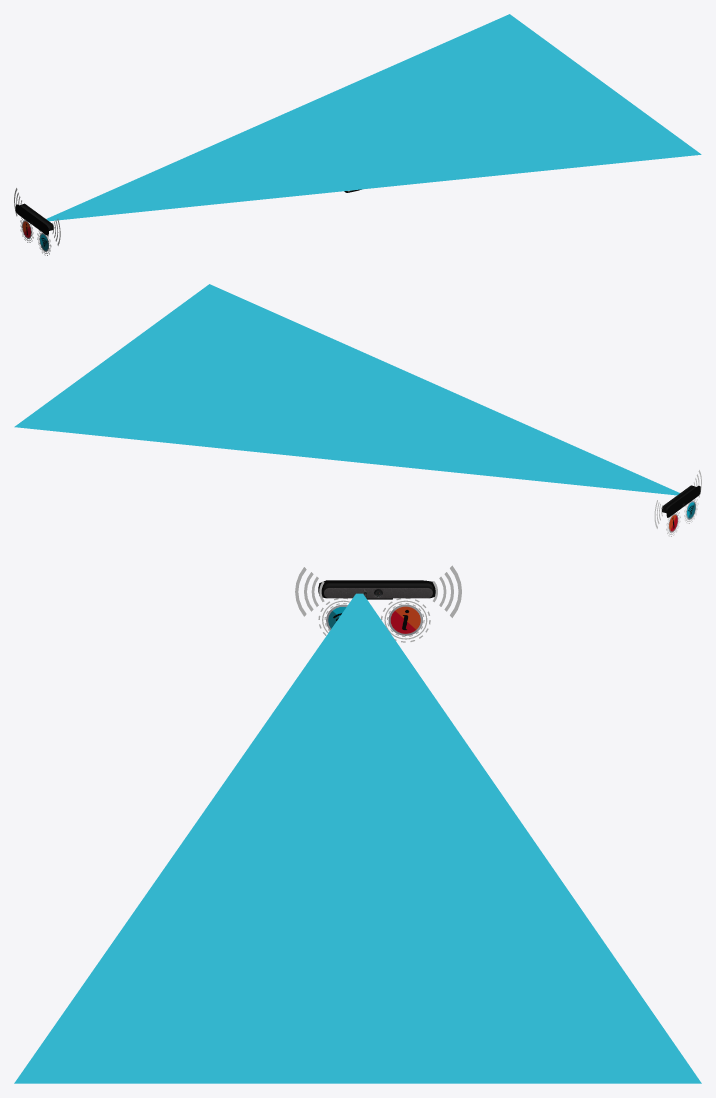
File: MediumProps_LogitechRallyBar.glb
The picture shows the model from 3 angles, top to bottom: view 1: azimuth 30°, elevation 25°; view 2: azimuth 150°, elevation 25°; view 3: azimuth 270°, elevation 25°; orthographic projection. The views are drawn at different scales.
Parts seen in each view (by area): view 1: Range_LogitechRallyBar; view 2: Range_LogitechRallyBar; view 3: Range_LogitechRallyBar, MediumProps_LogitechRallyBar, CamPop_LogitechRallyBar.001, Info_LogitechRallyBar.
Part boxes in pixels (<box>): Range_LogitechRallyBar: <box>46,14,701,221</box>; Range_LogitechRallyBar: <box>14,284,679,495</box>; Range_LogitechRallyBar: <box>14,593,701,1083</box>; MediumProps_LogitechRallyBar: <box>323,583,432,599</box>; CamPop_LogitechRallyBar.001: <box>295,565,461,617</box>; Info_LogitechRallyBar: <box>388,604,422,635</box>.
Bounding box in the file's own units: 7.64 × 0.5741 × 4.48.
Materials: 8 (4 with a texture image).
